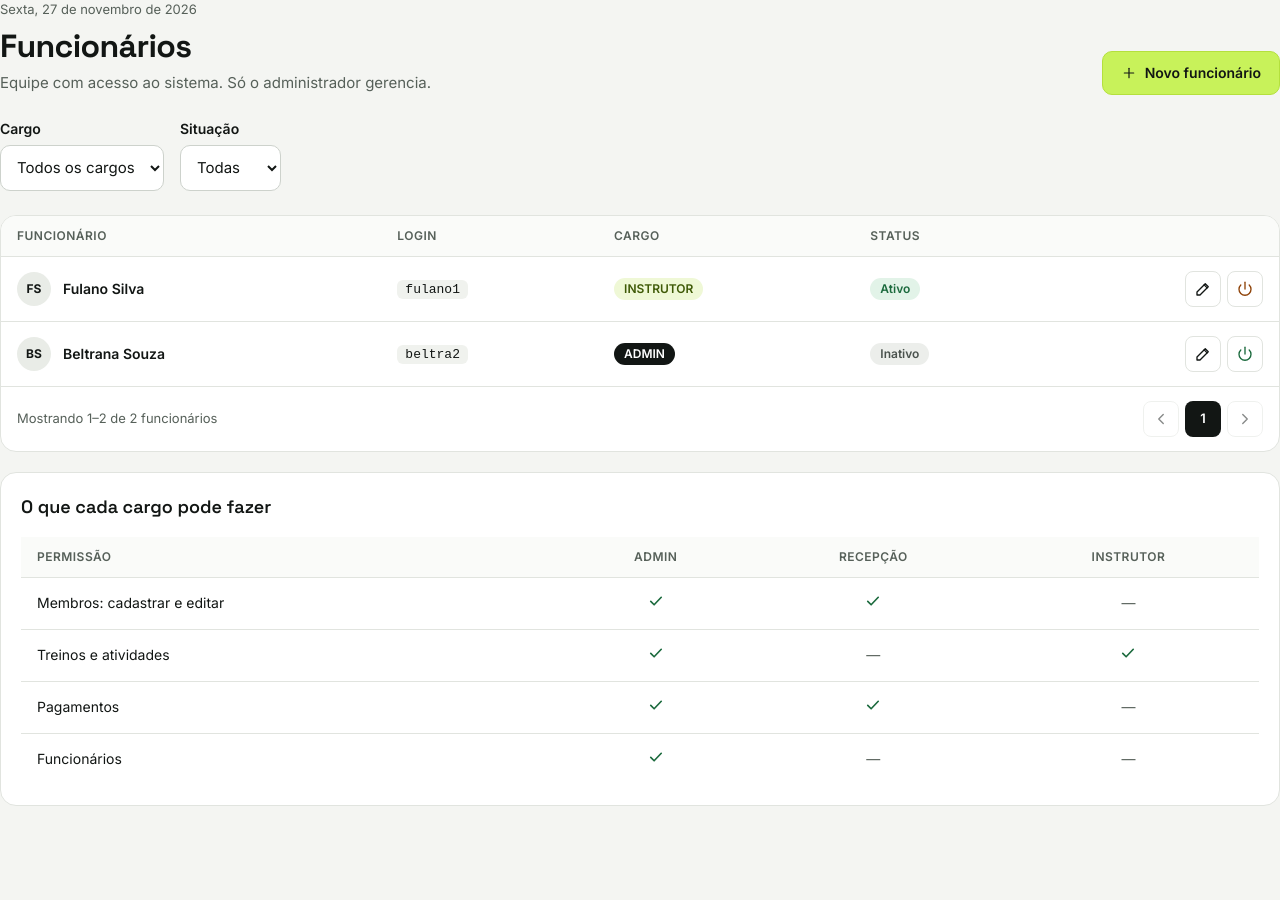
Test case: TelaFuncionarios › mostra o erro 422 num toast e fecha a confirmação
Expected: the text "Fulano Silva" is shown, [63,278,144,298]
What coordinates should you click on to do the following:
click the button named "Desativar Fulano Silva"
I would click on:
 (1245, 288)
Its box is [1227,270,1263,306].
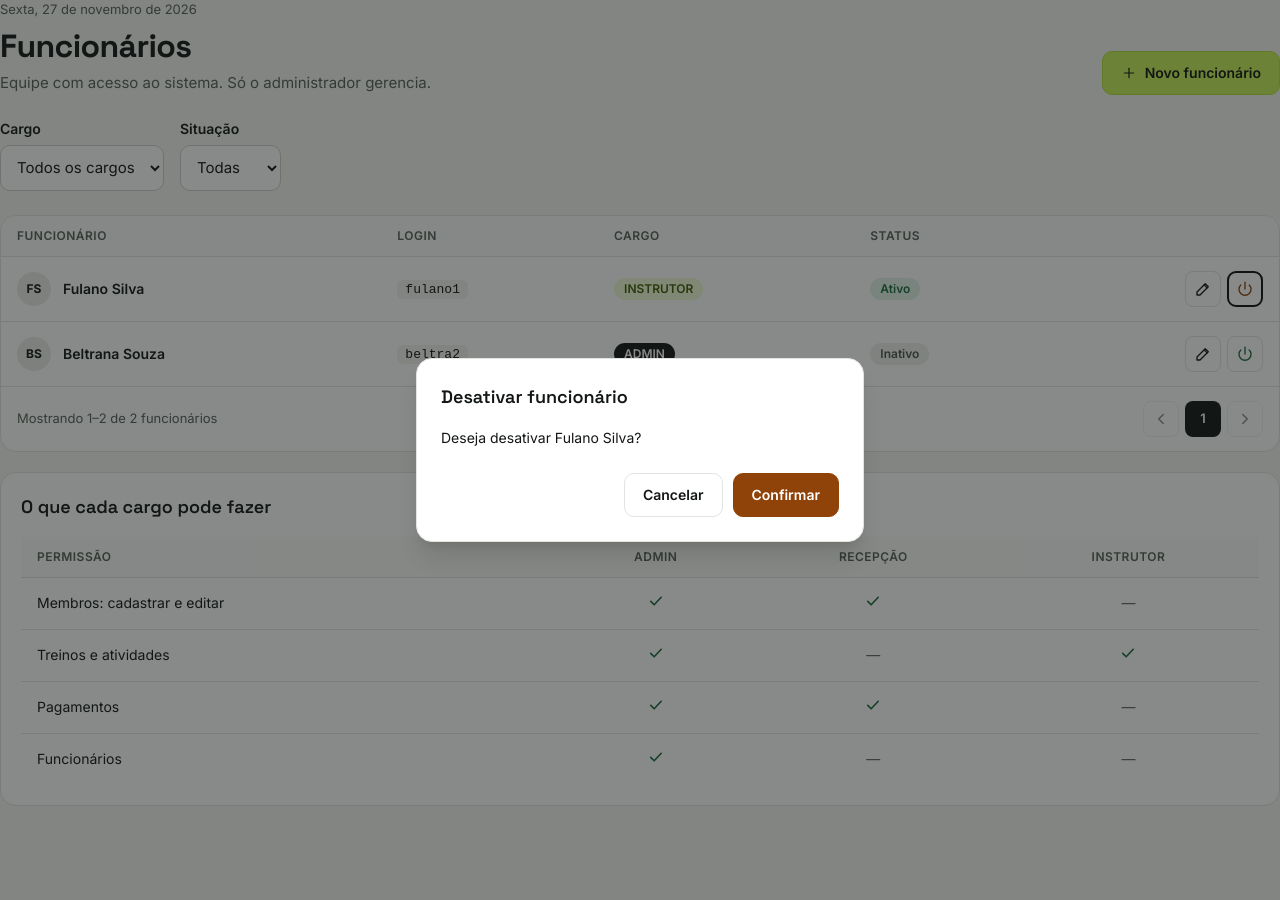
What coordinates should you click on to do the following:
click the button "Confirmar"
I would click on:
 (786, 495)
Its box is [732,473,839,517].
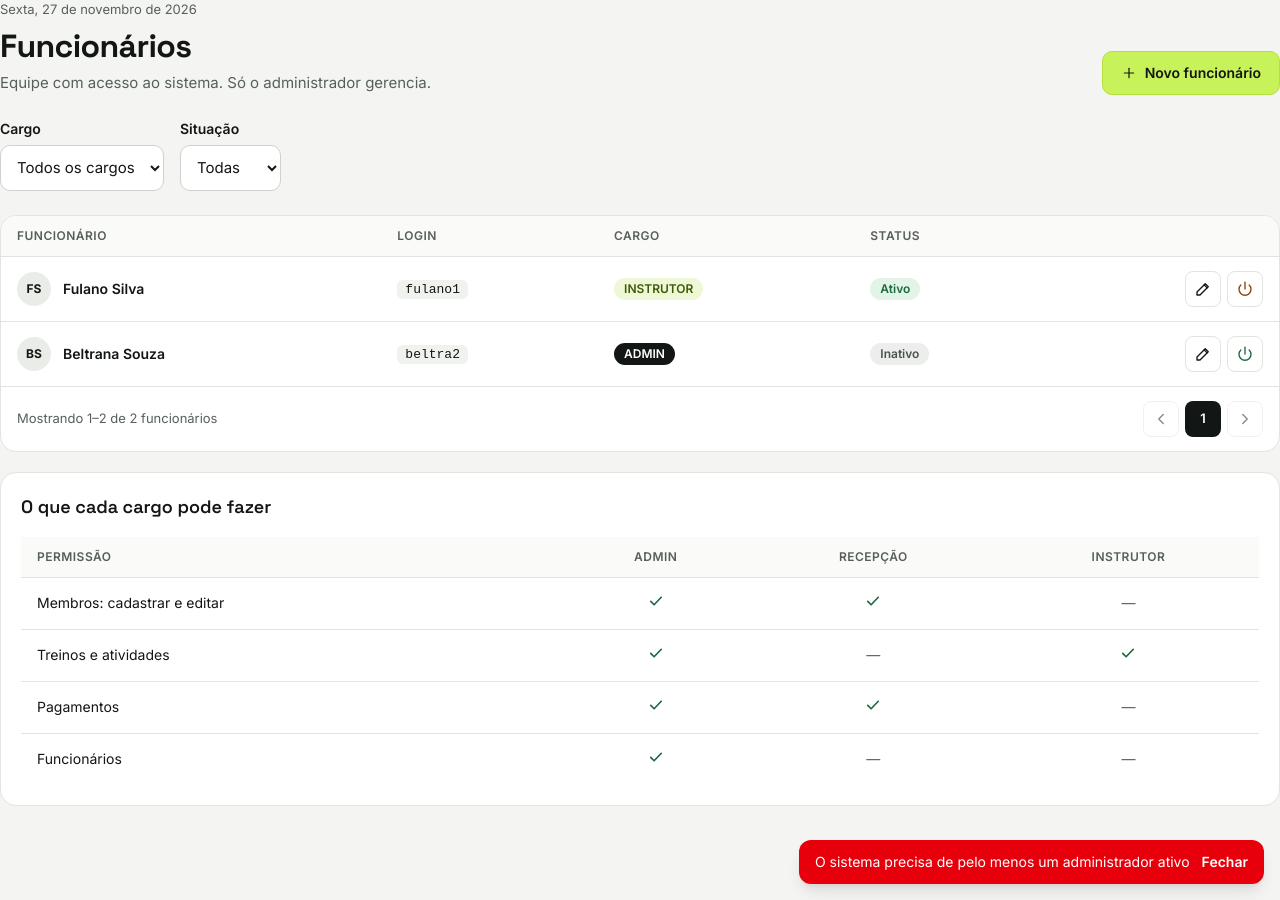
Expected: the text "O sistema precisa de pelo menos um administrador ativo" is shown, [815,852,1190,872]
Expected: the dialog is gone
